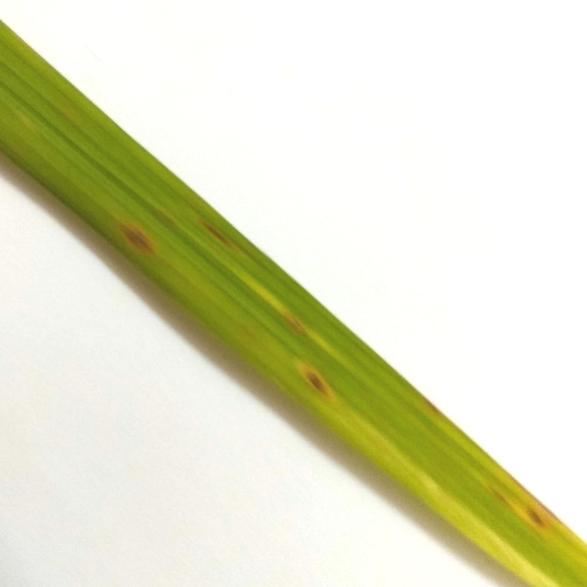Leaf_smut: (293, 350, 338, 405), (114, 213, 160, 263), (194, 207, 237, 253), (274, 303, 310, 339)
